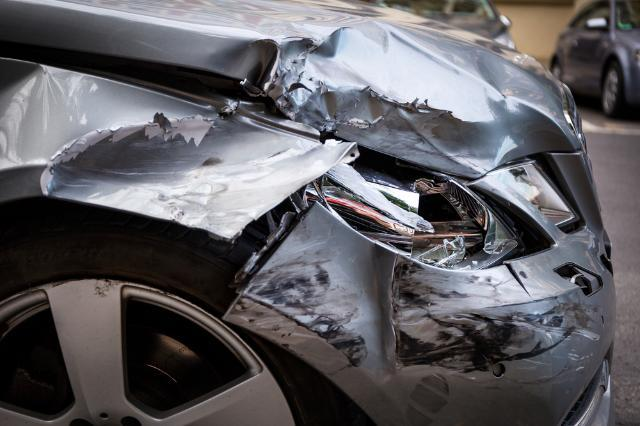crack: (503, 259, 535, 300)
dent: (200, 28, 575, 177), (44, 116, 350, 240), (352, 230, 397, 386)
dislocated part: (222, 152, 612, 426)
lamp broken: (318, 147, 526, 272)
scratch: (391, 255, 609, 392), (223, 203, 369, 379)
